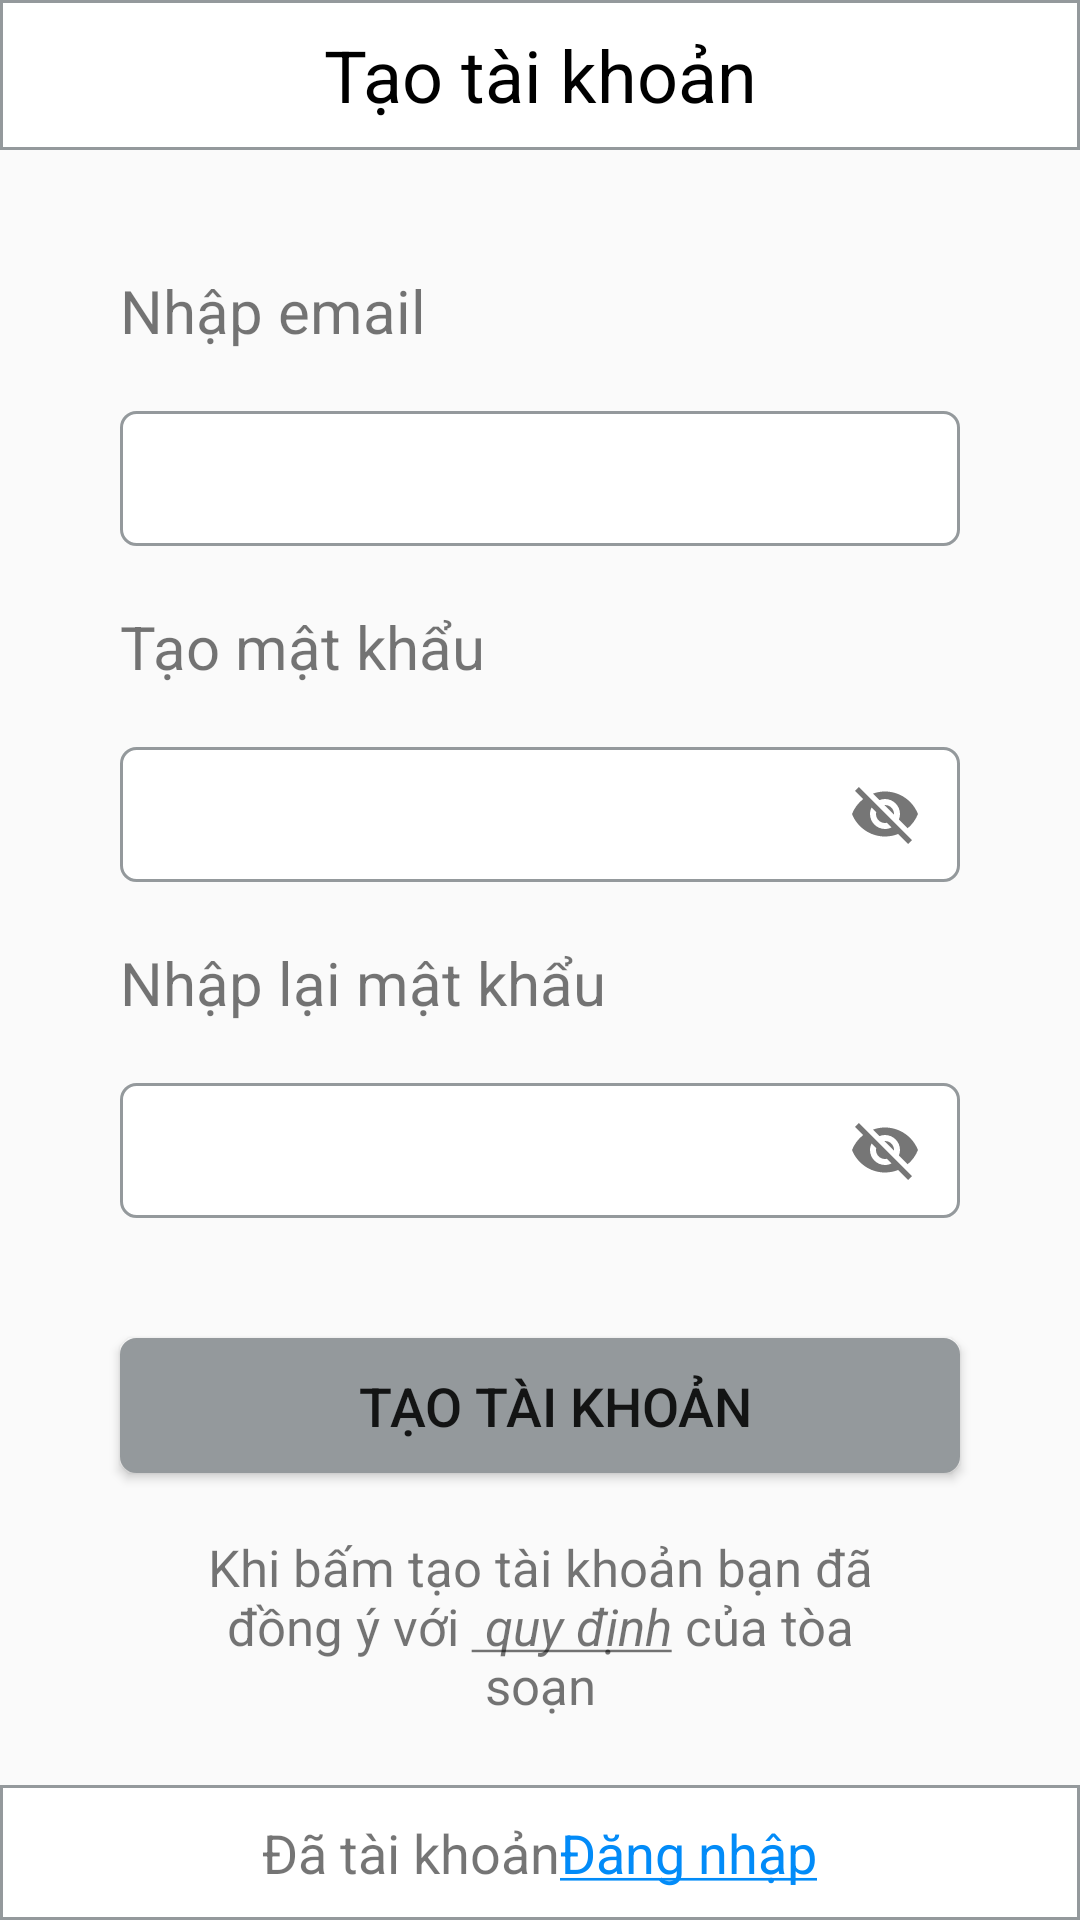

Named icons in this screenshot (1080 × 1920) and their centers, (x,y):
visibility off: (885,815), (885,1151)
